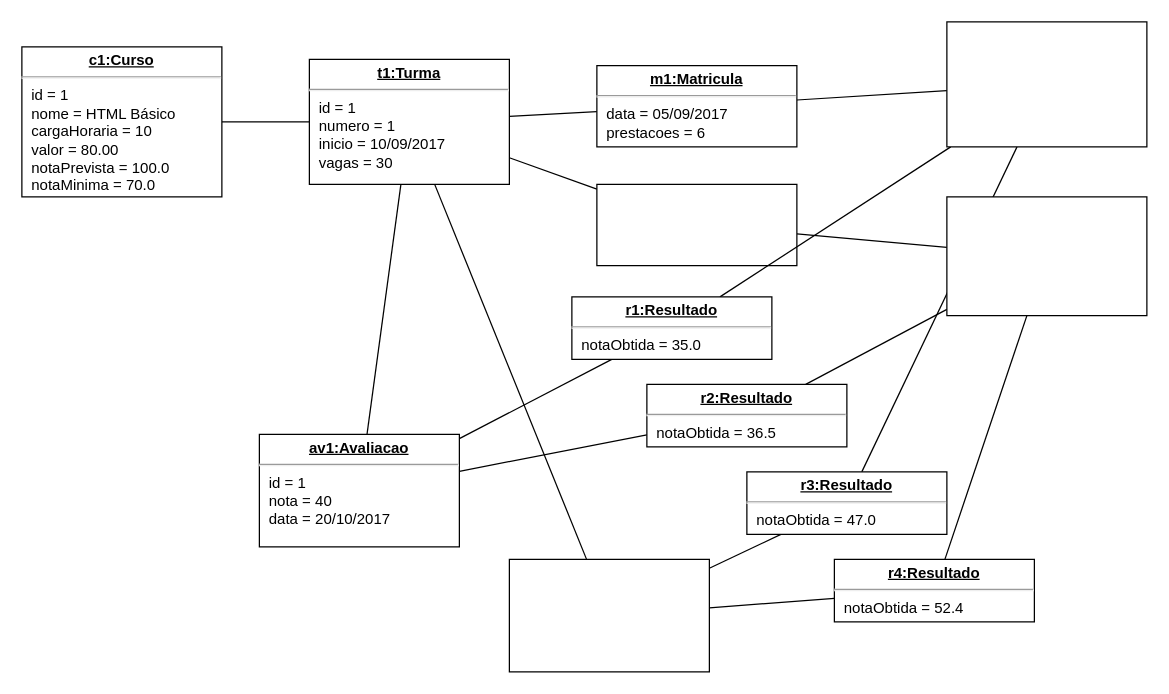
This 1169x694 diagram has some shape labels left out. The shapes that lost their labels are listed below. From the top down, each one's centre as x and y in pixels, then its label:
the point at 1046,84: a1:Aluno id = 1 cpf = 736.376.983-19 nome = Carlos Silva nascimento = 21/07/1990
the point at 696,224: m1:Matricula data = 06/09/2017 prestacoes = 6
the point at 1046,256: a2:Aluno id = 2 cpf = 353.847.901-22 nome = Maria Clara nascimento = 03/09/1991
the point at 608,615: av2:Avaliacao id = 2 nota = 60 data = 30/11/2017
